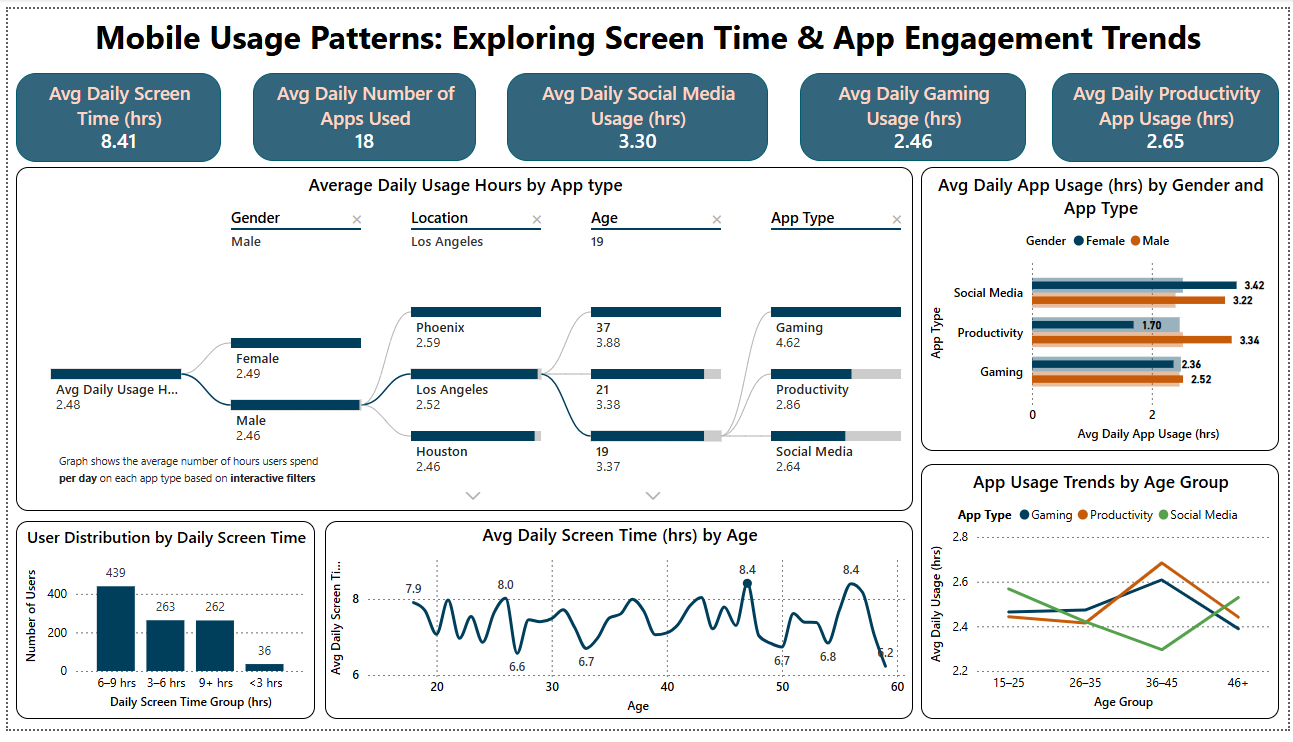

The page's visual inventory and layout, read from the dashboard file:
{"tool":"powerbi","page":{"name":"Page 1","canvas":[1280,720],"ordinal":0},"visuals":[{"type":"textbox","box":[0,0,1280,75.8],"z":0},{"type":"decompositionTreeVisual","title":"Average Daily Usage Hours by App type","fields":{"ExplainBy":["mobile_usage_behavioral_analysis.Gender","mobile_usage_behavioral_analysis.Location","mobile_usage_behavioral_analysis.Age","App_Usage_By_Type.App_Usage_Type"],"Analyze":["App_Usage_By_Type.Avg Daily Usage Hours by App Type"]},"box":[8.1,157.6,897.3,343.9],"z":0,"group":"g1"},{"type":"card","title":"Avg Daily Screen Time (hrs)","fields":{"Values":["Avg(mobile_usage_behavioral_analysis.Daily_Screen_Time_Hours)"]},"box":[8.1,63.6,205.1,89],"z":1000},{"type":"card","title":"Avg Daily Number of Apps Used","fields":{"Values":["Avg(mobile_usage_behavioral_analysis.Number_of_Apps_Used)"]},"box":[245.4,63.6,223,88.7],"z":2000},{"type":"card","title":"Avg Daily Social Media Usage (hrs)","fields":{"Values":["Avg(mobile_usage_behavioral_analysis.Social_Media_Usage_Hours)"]},"box":[499,63.6,260.6,88.7],"z":3000},{"type":"card","title":"Avg Daily Productivity App Usage (hrs)","fields":{"Values":["Avg(mobile_usage_behavioral_analysis.Productivity_App_Usage_Hours)"]},"box":[1044.2,63.6,226.6,89],"z":4000},{"type":"card","title":"Avg Daily Gaming Usage (hrs)","fields":{"Values":["Avg(mobile_usage_behavioral_analysis.Gaming_App_Usage_Hours)"]},"box":[791.6,63.6,226.6,88.7],"z":5000},{"type":"lineChart","title":"Avg Daily Screen Time (hrs) by Age","fields":{"Y":["Avg(mobile_usage_behavioral_analysis.Daily_Screen_Time_Hours)"],"Category":["mobile_usage_behavioral_analysis.Age (bins)"]},"box":[317,512.2,588.4,197.9],"z":6000},{"type":"clusteredColumnChart","title":"User Distribution by Daily Screen Time","fields":{"Category":["mobile_usage_behavioral_analysis.ScreenTimeGroup"],"Y":["CountNonNull(mobile_usage_behavioral_analysis.User_ID)"]},"box":[8.1,512.2,299.1,197.9],"z":7000},{"type":"clusteredBarChart","title":"Avg Daily App Usage (hrs) by Gender and App Type","fields":{"Category":["App_Usage_By_Type.App Type"],"Y":["Avg(App_Usage_By_Type.Usage_Hours)"],"Series":["GenderLookup.Gender"]},"box":[913.4,157.6,357.3,284.8],"z":8000},{"type":"lineChart","title":"App Usage Trends by Age Group","fields":{"Y":["Avg(App_Usage_By_Type.Usage_Hours)"],"Series":["App_Usage_By_Type.App Type"],"Category":["App_Usage_By_Type.Age_Group"]},"box":[913.4,454.9,357.3,255.2],"z":9000},{"type":"textbox","box":[45.9,436.5,281.6,61.4],"z":11000,"group":"g1"},{"type":"group","id":"g1","title":"Group 1","box":[8.1,157.6,897.3,343.9],"z":11001}]}

Visuals, with their boxes in screenshot pixels (x1, y1, x2, y2), scaled from the page's 1280x720 canvas onto the 1293x742 screenshot:
textbox: left=0, top=0, right=1292, bottom=78
"Average Daily Usage Hours by App type" decompositionTreeVisual: left=8, top=162, right=915, bottom=517
"Avg Daily Screen Time (hrs)" card: left=8, top=66, right=215, bottom=157
"Avg Daily Number of Apps Used" card: left=248, top=66, right=473, bottom=157
"Avg Daily Social Media Usage (hrs)" card: left=504, top=66, right=767, bottom=157
"Avg Daily Productivity App Usage (hrs)" card: left=1055, top=66, right=1284, bottom=157
"Avg Daily Gaming Usage (hrs)" card: left=800, top=66, right=1029, bottom=157
"Avg Daily Screen Time (hrs) by Age" lineChart: left=320, top=528, right=915, bottom=732
"User Distribution by Daily Screen Time" clusteredColumnChart: left=8, top=528, right=310, bottom=732
"Avg Daily App Usage (hrs) by Gender and App Type" clusteredBarChart: left=923, top=162, right=1284, bottom=456
"App Usage Trends by Age Group" lineChart: left=923, top=469, right=1284, bottom=732
textbox: left=46, top=450, right=331, bottom=513
"Group 1" group: left=8, top=162, right=915, bottom=517
